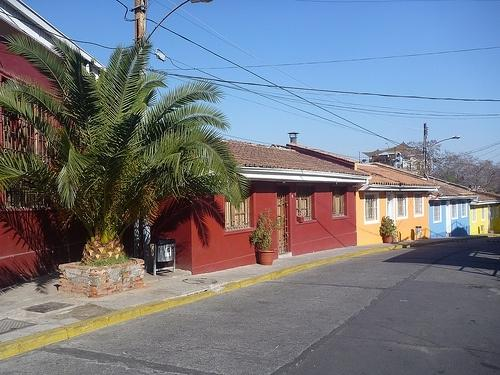casa: (152, 134, 372, 273), (229, 151, 364, 254), (0, 194, 85, 286), (154, 197, 254, 272), (356, 164, 431, 243), (423, 180, 476, 236), (0, 110, 44, 156), (0, 46, 48, 85), (0, 1, 50, 36), (469, 189, 499, 233)
poste: (134, 0, 146, 40)
